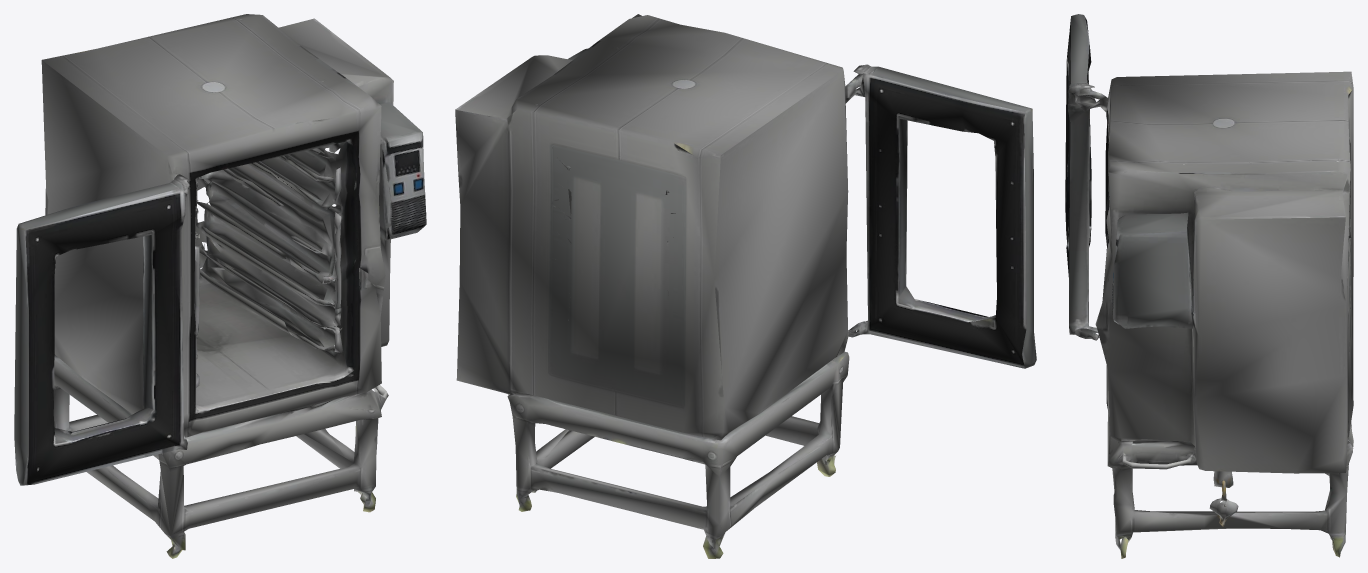
File: oven.glb
3 renders of one model, left to right at view 1: azimuth 30°, elevation 25°; view 2: azimuth 150°, elevation 25°; view 3: azimuth 270°, elevation 25°, orthographic. The views are drawn at different scales.
Parts seen in each view (by area): view 1: tripo_node_7db851f2; view 2: tripo_node_7db851f2; view 3: tripo_node_7db851f2.
Boxes of the visible parts, x1=… form: tripo_node_7db851f2: x1=14, y1=14, x2=426, y2=558; tripo_node_7db851f2: x1=455, y1=14, x2=1036, y2=558; tripo_node_7db851f2: x1=1065, y1=14, x2=1353, y2=558.
Bounding box in the file's own units: 1.47 × 1.32 × 0.8841.
Materials: 1 (1 with a texture image).
